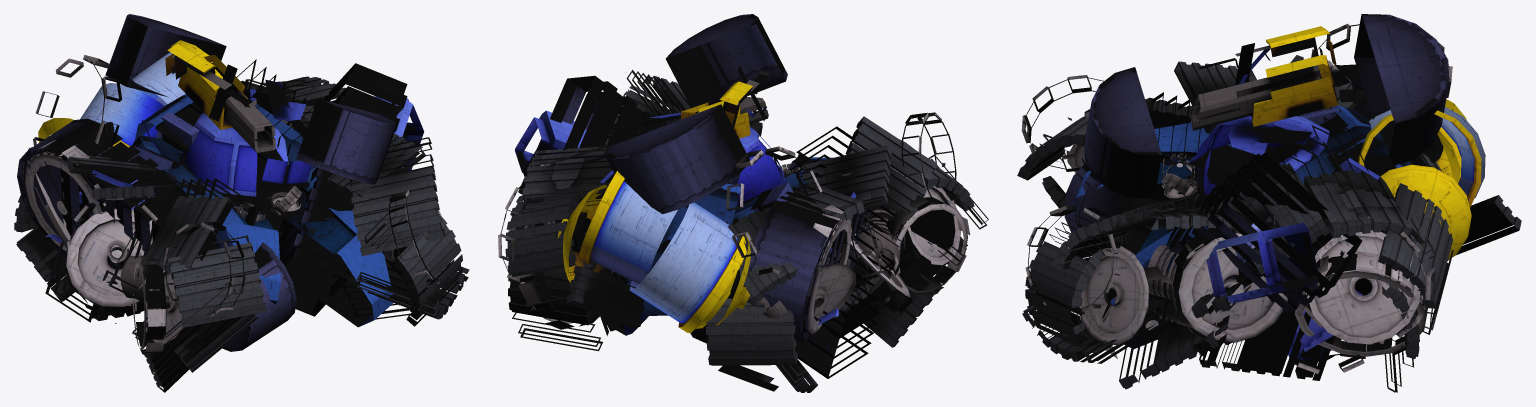
File: PlayerB_die9.obj
3 renders of one model, left to right at view 1: azimuth 30°, elevation 25°; view 2: azimuth 150°, elevation 25°; view 3: azimuth 270°, elevation 25°, orthographic. The views are drawn at different scales.
Parts seen in each view (by area): view 1: Object005; view 2: Object005; view 3: Object005.
Boxes of the visible parts, left/top/right/bottom form: Object005: left=14, top=14, right=469, bottom=392; Object005: left=498, top=14, right=988, bottom=392; Object005: left=1017, top=14, right=1521, bottom=392.
Bounding box in the file's own units: 163 × 120 × 176.
Materials: 2 (2 with a texture image).
